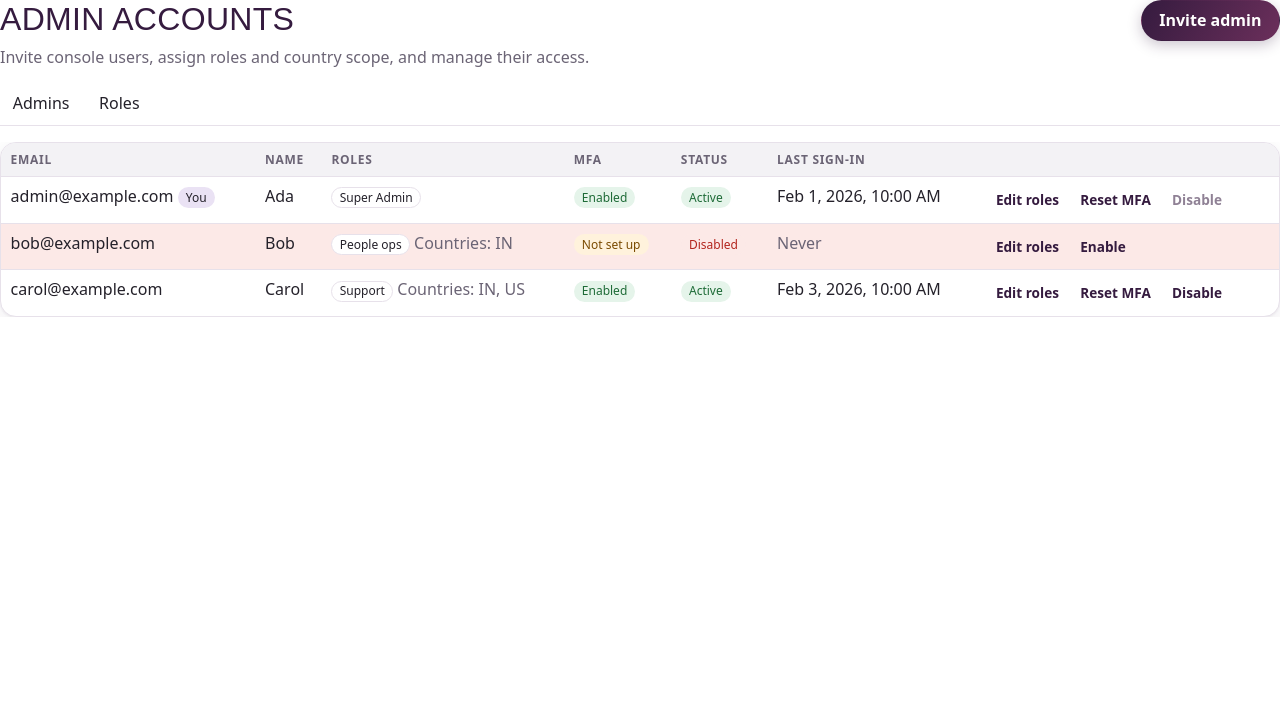
Scenario: AdminsPage › validates and sends an invite with roles and country scope
Click the button "Invite admin" at coordinates (1210, 21), box [1141,0,1279,41]
(page scrolled)
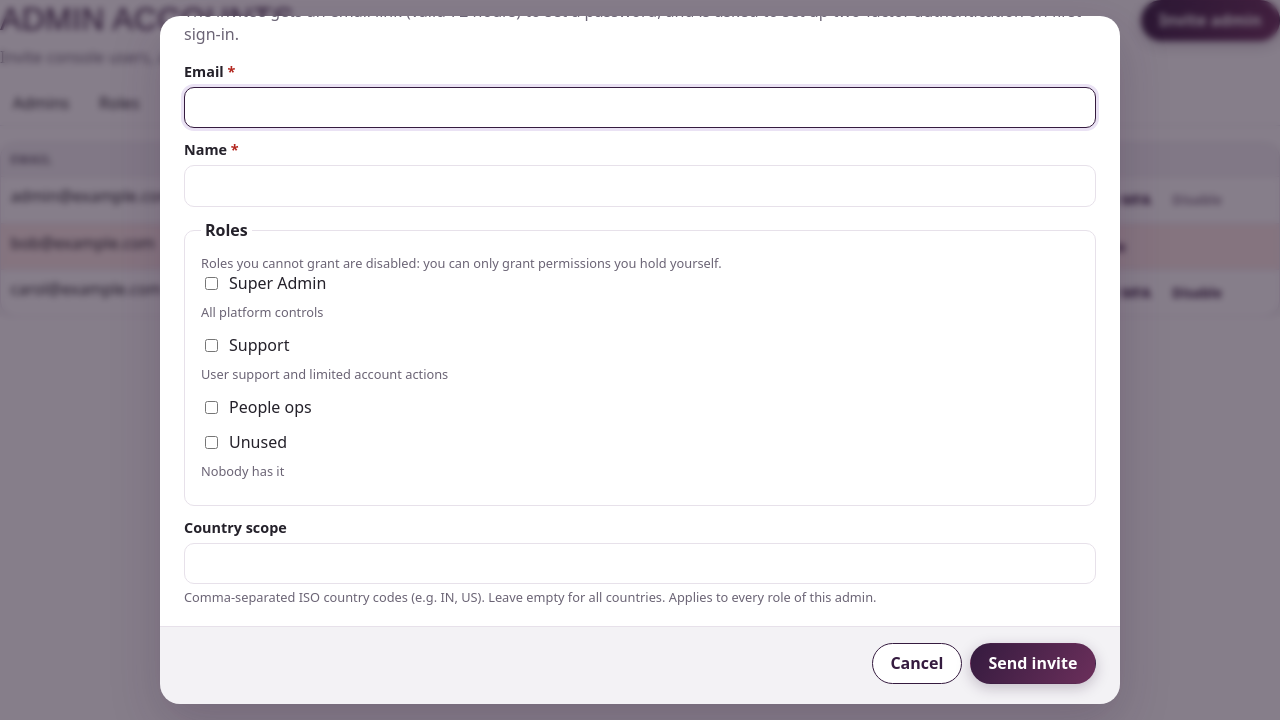
Click the button "Send invite" at coordinates (1033, 664), box [970,643,1096,684]
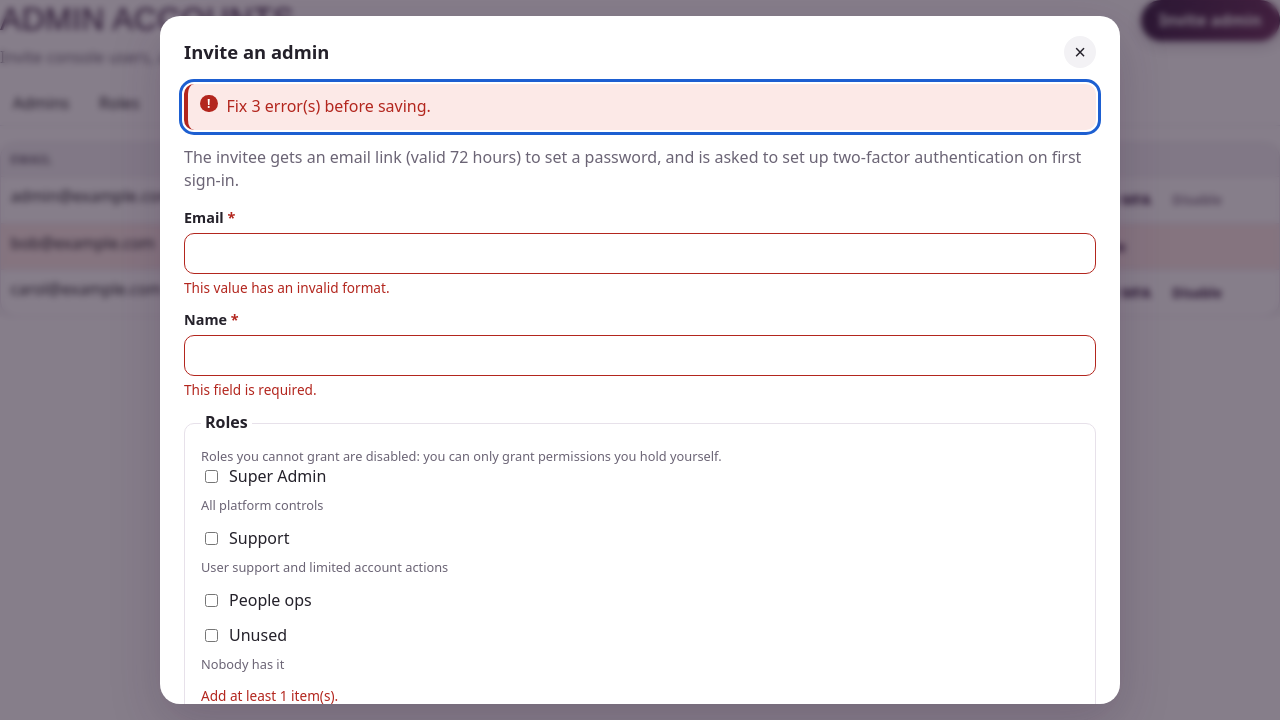
Type "new@example.com" into the field labelled "Email" at coordinates (640, 253), box [184,233,1096,274]
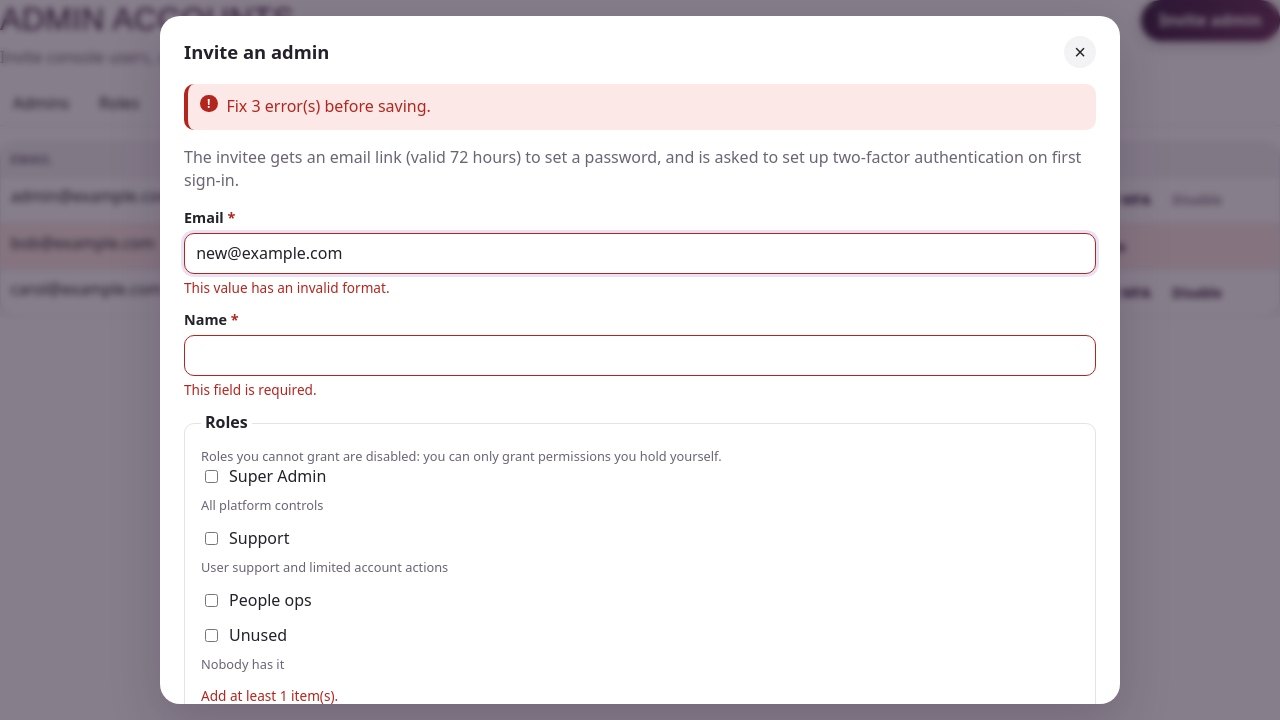
Type "Nia" into the field labelled "Name" at coordinates (640, 355), box [184,335,1096,376]
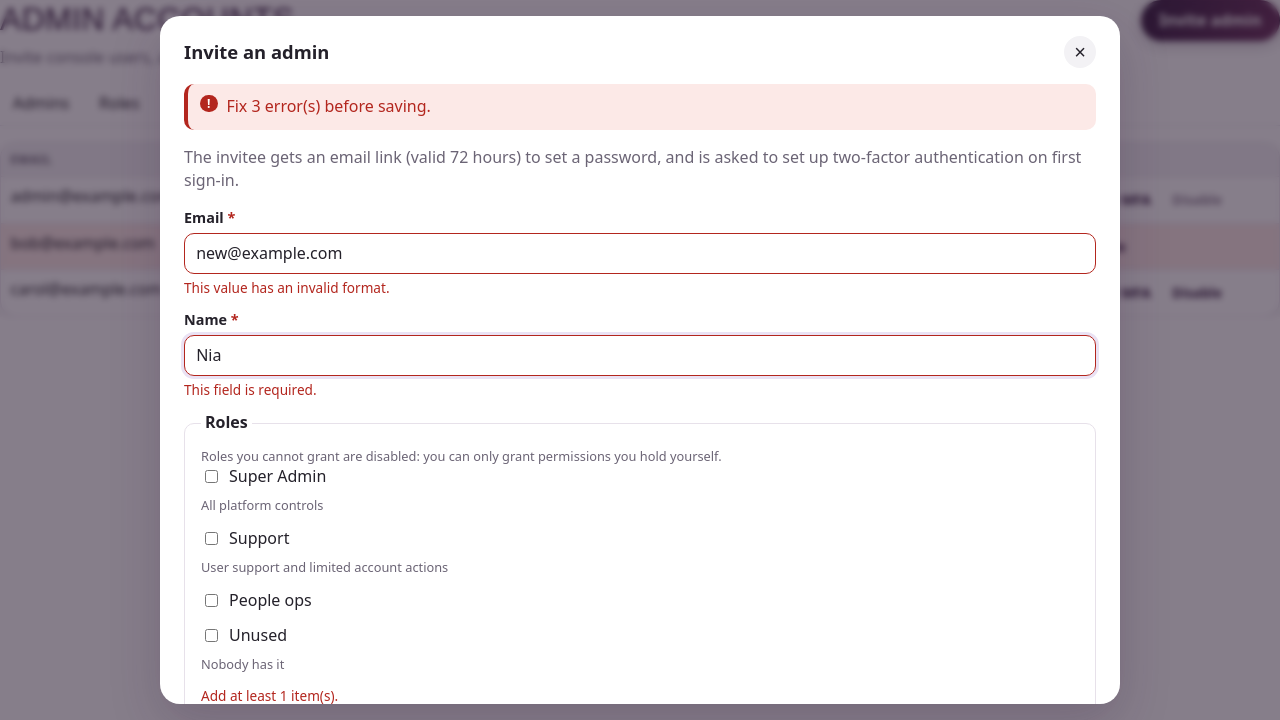
Click the checkbox labelled "Support" at coordinates (212, 538), box [205,532,218,545]
(page scrolled)
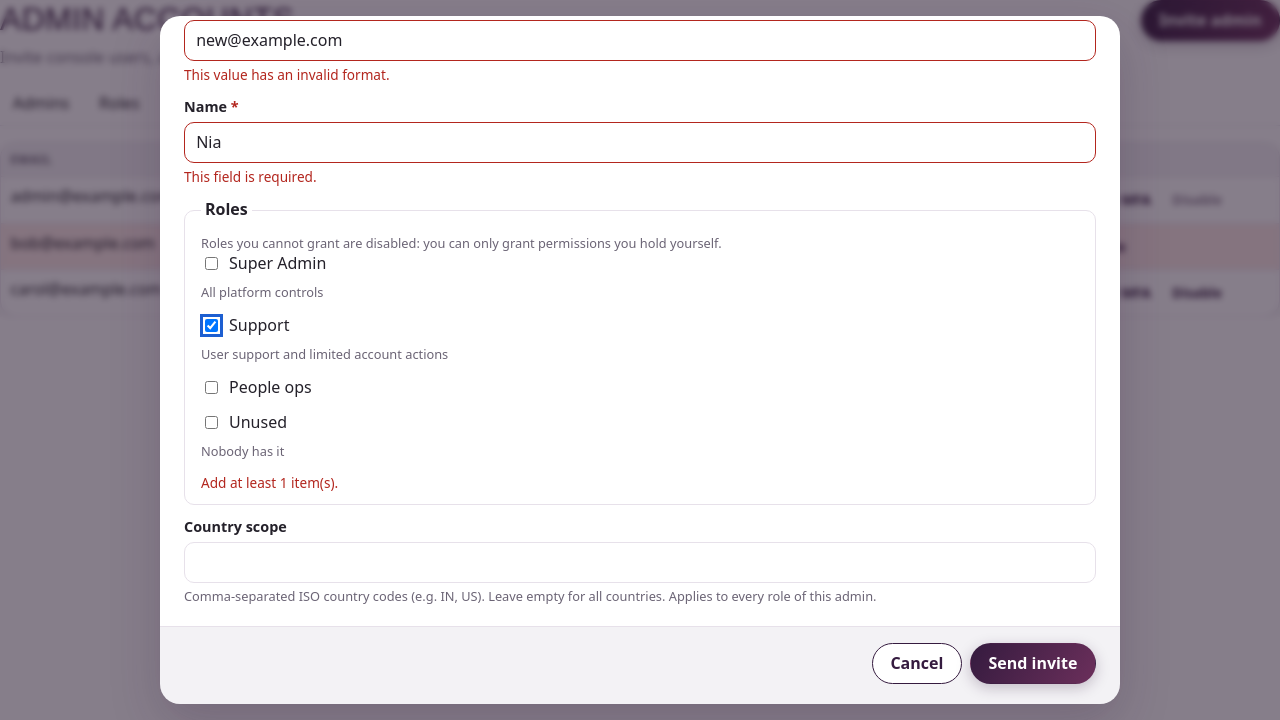
Type "in, us" into the field labelled "Country scope" at coordinates (640, 563), box [184,542,1096,583]
Click the button "Send invite" at coordinates (1033, 664), box [970,643,1096,684]
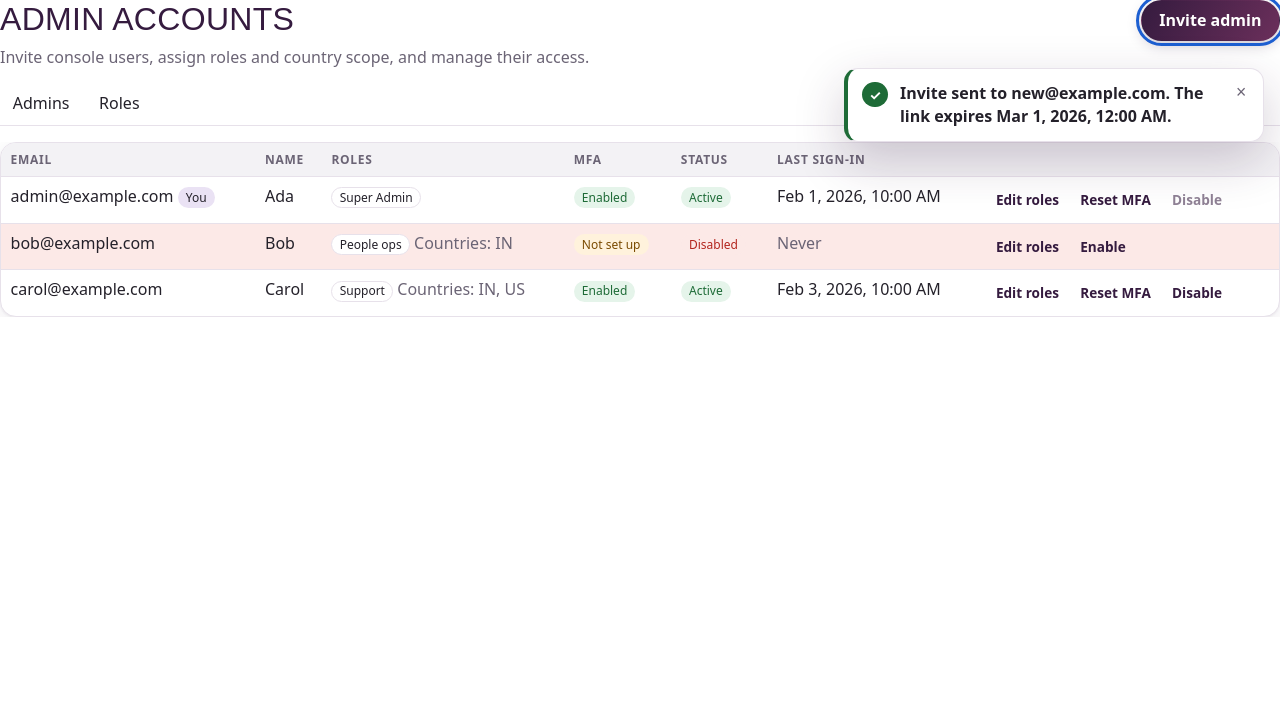
Expected: the dialog is gone
